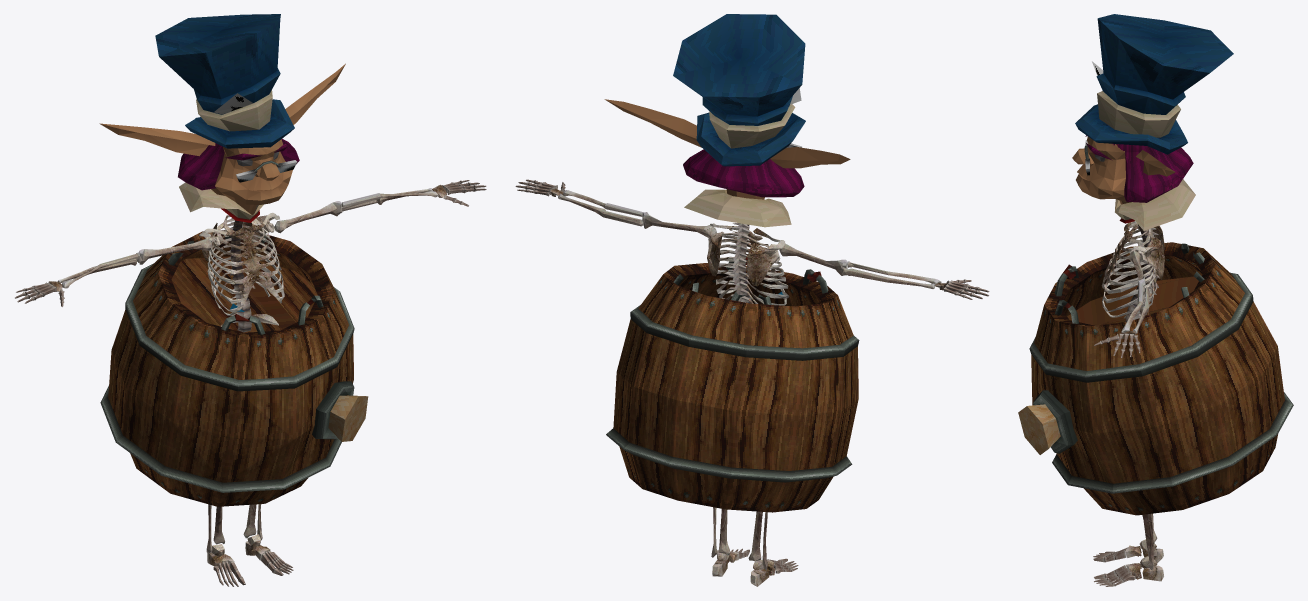
Rendered from gambler-lod0.glb.
3 views of the same model, side by side, from view 1: azimuth 30°, elevation 25°; view 2: azimuth 150°, elevation 25°; view 3: azimuth 270°, elevation 25° (orthographic).
Parts seen in each view (by area): view 1: gambler-lod0, skellie.001; view 2: gambler-lod0, skellie.001; view 3: gambler-lod0, skellie.001.
Boxes of the visible parts, left/top/right/bottom form: gambler-lod0: left=99, top=14, right=368, bottom=506; skellie.001: left=15, top=180, right=486, bottom=586; gambler-lod0: left=604, top=14, right=859, bottom=512; skellie.001: left=515, top=179, right=989, bottom=586; gambler-lod0: left=1018, top=14, right=1293, bottom=515; skellie.001: left=1093, top=221, right=1164, bottom=586.
Bounding box in the file's own units: 3.3 × 3.67 × 1.67.
Materials: 17 (17 with a texture image).
